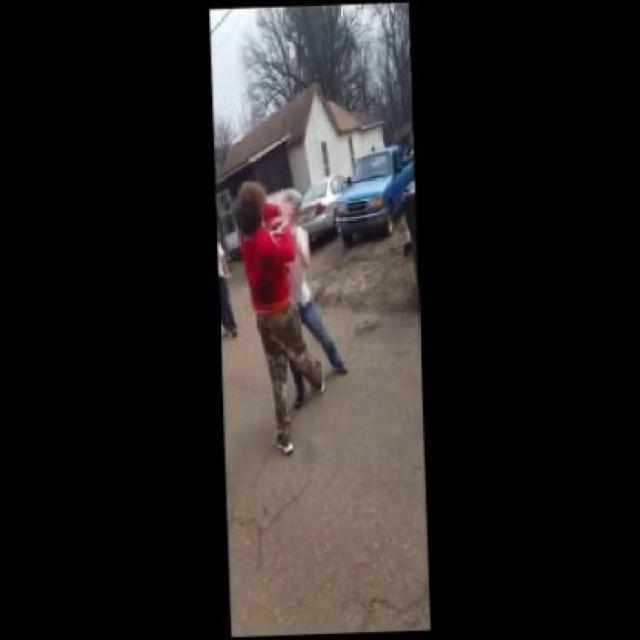fight: (234, 178, 318, 338)
